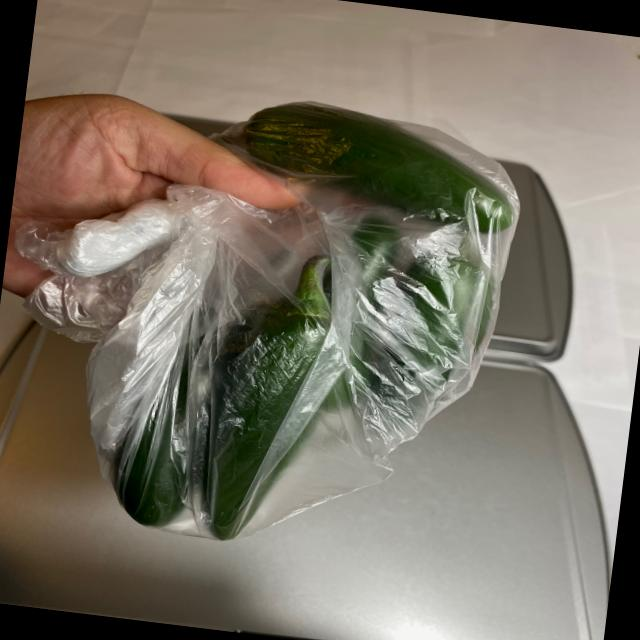chilli: (100, 82, 541, 578)
